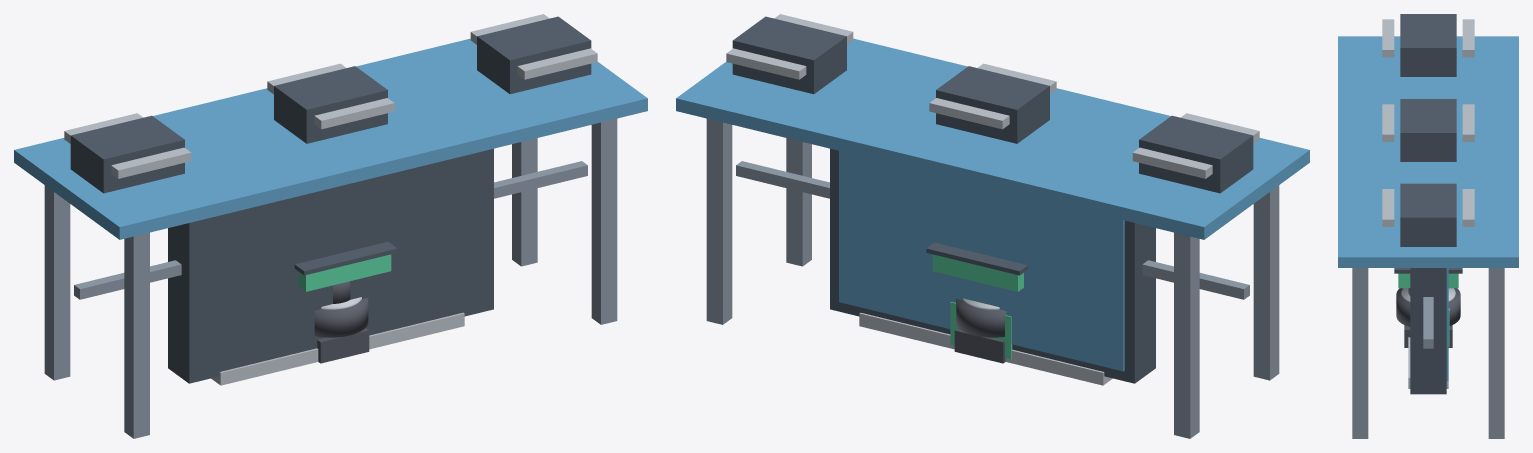
File: props-kit.glb
3 views of the same model, side by side, from view 1: azimuth 30°, elevation 25°; view 2: azimuth 150°, elevation 25°; view 3: azimuth 270°, elevation 25° (orthographic). The views are drawn at different scales.
Parts seen in each view (by area): view 1: GEO-cell_body, GEO-station_top, GEO-station_roller0, GEO-station_roller2, GEO-station_roller1, GEO-station_leg_1_-0m34, GEO-station_leg_-1_-0m34, GEO-station_leg_-1_0m34, GEO-station_rail, GEO-cell_bus, GEO-station_leg_1_0m34, GEO-tag_label (+6 smaller); view 2: GEO-station_top, GEO-cell_face, GEO-cell_body, GEO-station_roller0, GEO-station_roller2, GEO-station_roller1, GEO-station_leg_1_0m34, GEO-station_leg_-1_0m34, GEO-station_leg_-1_-0m34, GEO-station_rail, GEO-station_leg_1_-0m34, GEO-cell_bus (+8 smaller); view 3: GEO-station_top, GEO-cell_body, GEO-station_roller2, GEO-station_roller0, GEO-station_roller1, GEO-station_leg_1_0m34, GEO-station_leg_1_-0m34, GEO-tag_valvebase, GEO-station_rail, GEO-station_roller0_-1, GEO-station_roller0_1, GEO-station_roller1_-1 (+8 smaller).
Part boxes in pixels (x1,y1,x2,y2): GEO-cell_body: (168, 148, 493, 383); GEO-station_top: (14, 38, 647, 239); GEO-station_roller0: (70, 115, 184, 193); GEO-station_roller2: (477, 16, 591, 94); GEO-station_roller1: (274, 66, 387, 143); GEO-station_leg_1_-0m34: (591, 118, 617, 324); GEO-station_leg_-1_-0m34: (124, 232, 149, 438); GEO-station_leg_-1_0m34: (44, 185, 70, 380); GEO-station_rail: (74, 161, 587, 299); GEO-cell_bus: (211, 312, 464, 385); GEO-station_leg_1_0m34: (512, 138, 537, 266); GEO-tag_label: (299, 254, 391, 291); GEO-station_top: (676, 38, 1309, 239); GEO-cell_face: (839, 151, 1124, 371); GEO-cell_body: (830, 148, 1155, 383); GEO-station_roller0: (1139, 115, 1253, 193); GEO-station_roller2: (732, 16, 846, 94); GEO-station_roller1: (936, 66, 1049, 143); GEO-station_leg_1_0m34: (706, 118, 732, 324); GEO-station_leg_-1_0m34: (1174, 232, 1199, 438); GEO-station_leg_-1_-0m34: (1253, 185, 1279, 380); GEO-station_rail: (736, 161, 1249, 299); GEO-station_leg_1_-0m34: (786, 138, 811, 266); GEO-cell_bus: (859, 312, 1112, 385); GEO-station_top: (1338, 36, 1518, 267); GEO-cell_body: (1410, 268, 1446, 394); GEO-station_roller2: (1400, 183, 1456, 246); GEO-station_roller0: (1400, 14, 1456, 76); GEO-station_roller1: (1400, 99, 1456, 161); GEO-station_leg_1_0m34: (1488, 268, 1504, 438); GEO-station_leg_1_-0m34: (1352, 268, 1368, 438); GEO-tag_valvebase: (1396, 288, 1460, 326); GEO-station_rail: (1423, 297, 1433, 348); GEO-station_roller0_-1: (1382, 19, 1394, 57); GEO-station_roller0_1: (1462, 19, 1474, 57); GEO-station_roller1_-1: (1382, 104, 1394, 141).
Size of the model in its own units: 2.6 by 1.22 by 0.9.
